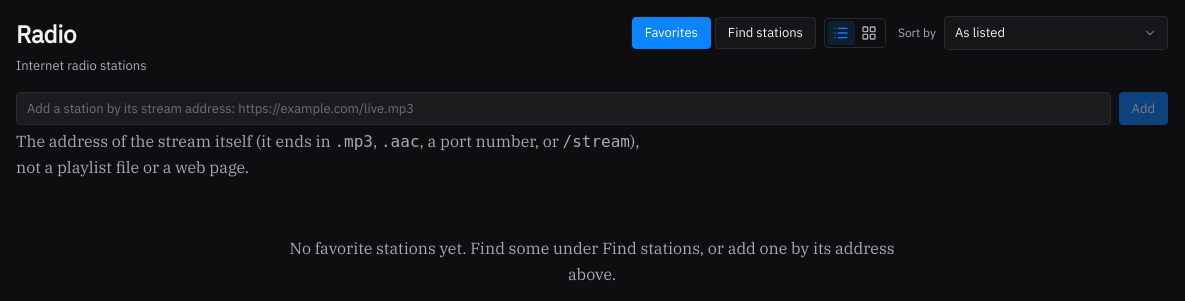
it: Radio view › Find stations explains when the server's directory is off
The width and height of the screenshot is (1185, 301).
Click the tab with test id "tab-browse" at [765, 33], box [715, 17, 816, 48]
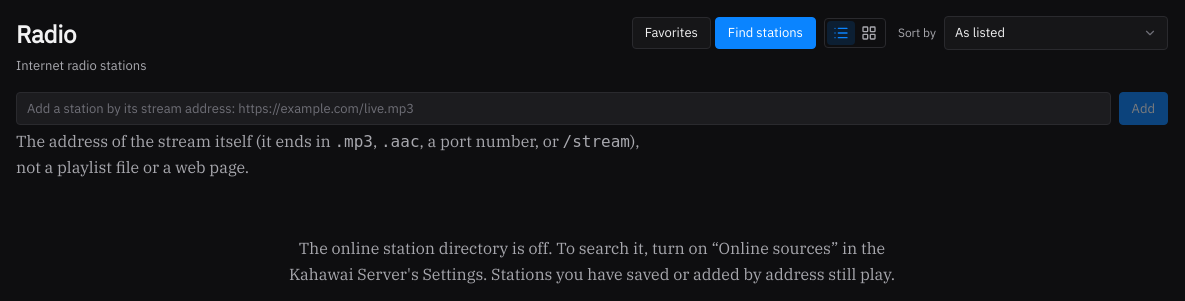
Check: the text with test id "directory-off" shows "Online sources", box [289, 238, 895, 284]
